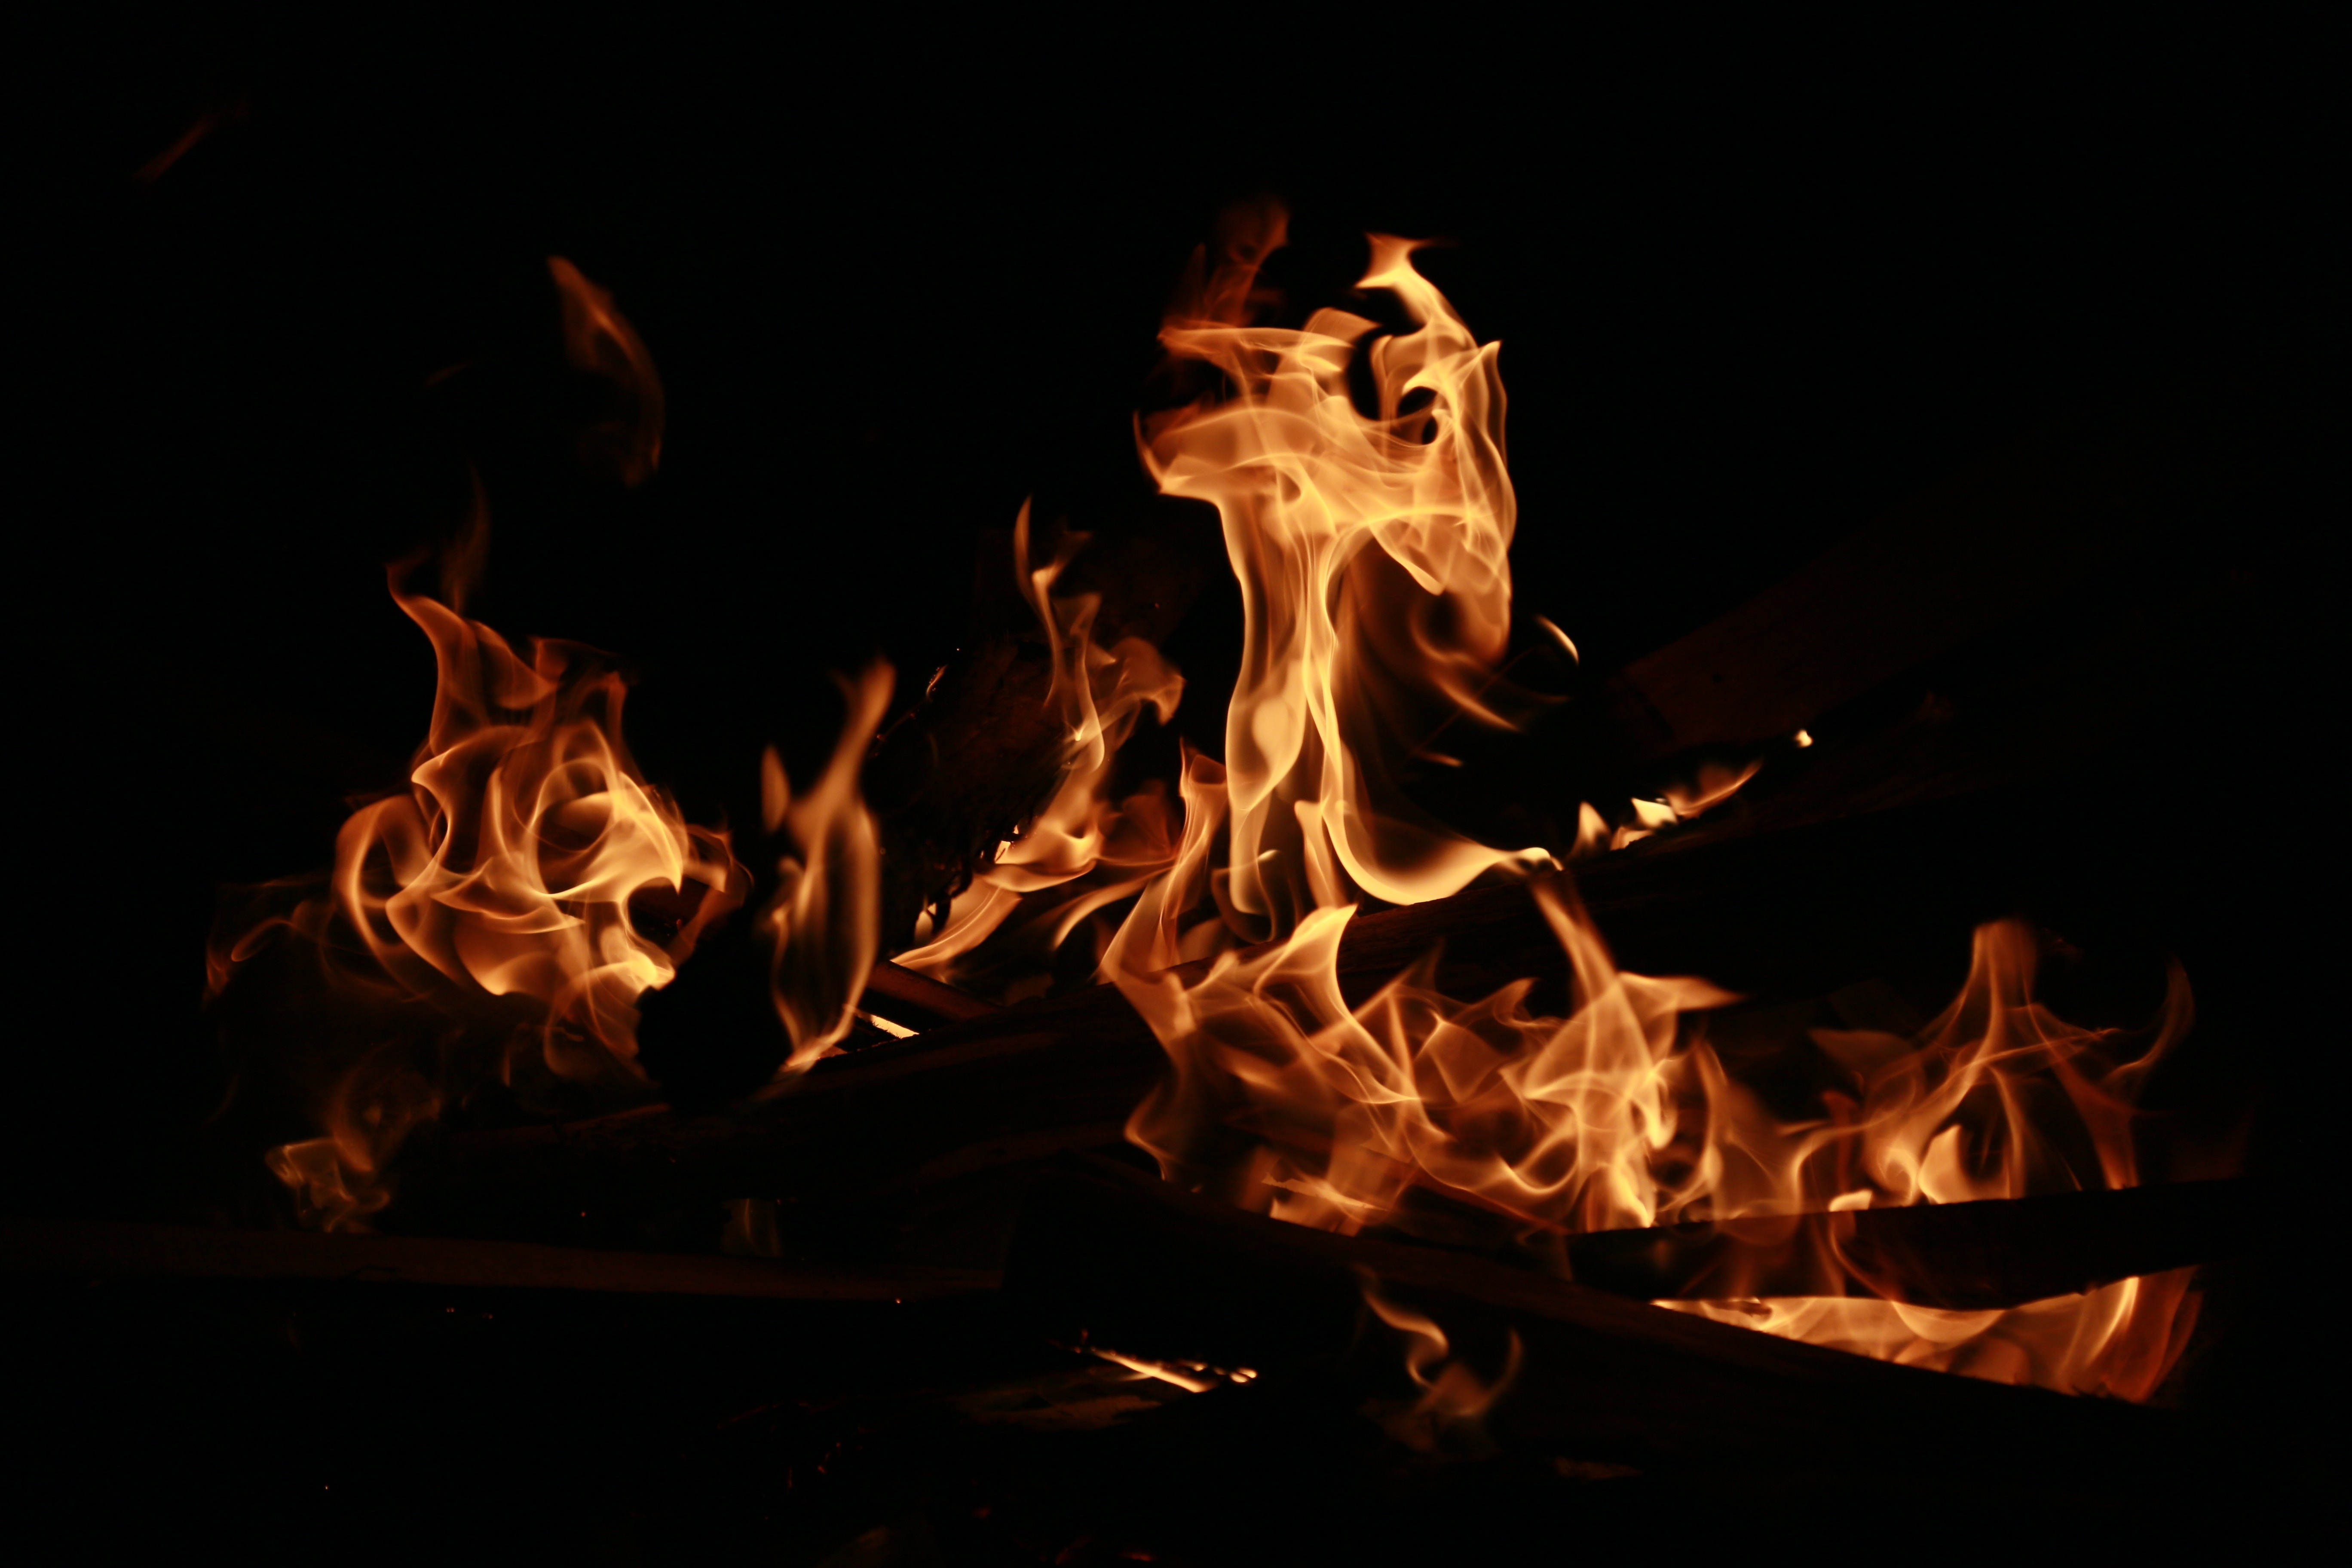fire: (436, 191, 2172, 1447)
